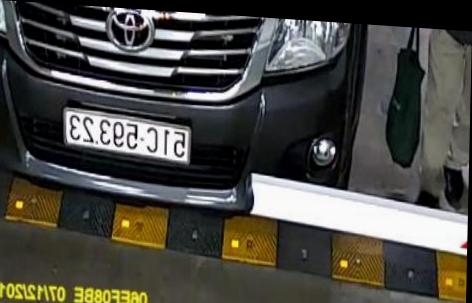License_Plate: (50, 107, 209, 168)
